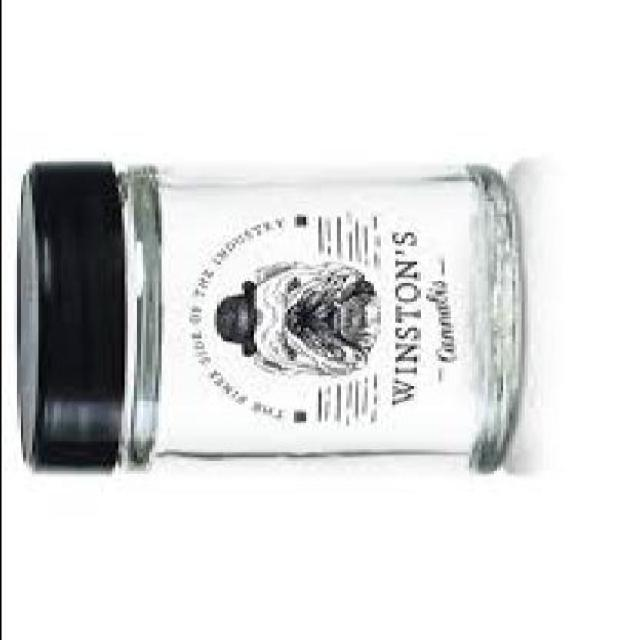GLASS: (111, 167, 517, 476)
METAL: (9, 166, 120, 474)
